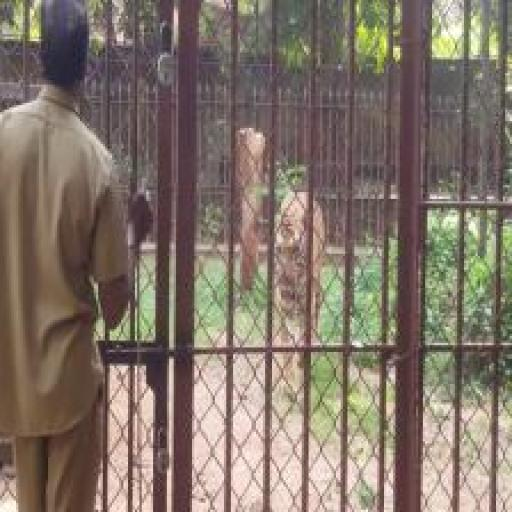Tiger: (267, 178, 336, 405)
